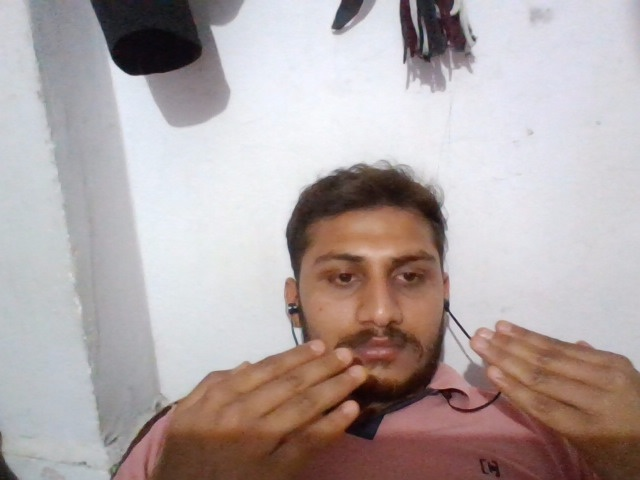Thanks: (155, 272, 640, 480)
